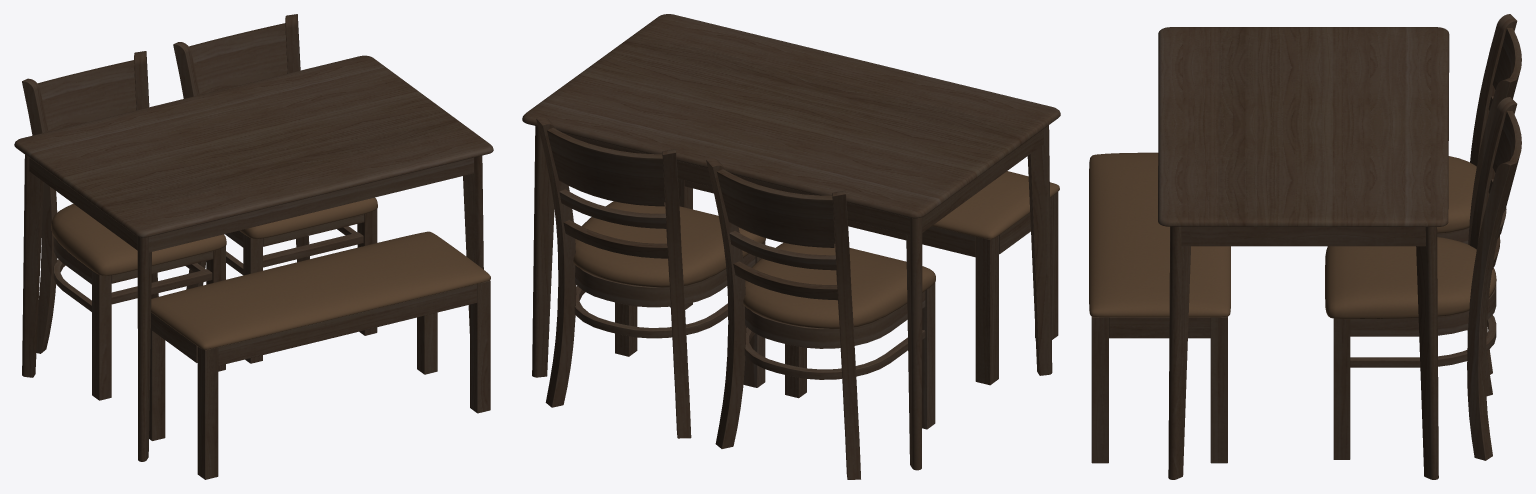
File: MEGA_PACK_Tableset__tableset_456939_Frame_Walnutbrown.glb
The picture shows the model from 3 angles, left to right: view 1: azimuth 30°, elevation 25°; view 2: azimuth 150°, elevation 25°; view 3: azimuth 270°, elevation 25°; orthographic projection. The views are drawn at different scales.
Visible parts, largest first — view 1: tableset_456939_Frame_Walnutbrown; view 2: tableset_456939_Frame_Walnutbrown; view 3: tableset_456939_Frame_Walnutbrown.
Boxes of the visible parts, <box> form: tableset_456939_Frame_Walnutbrown: <box>14,14,493,479</box>; tableset_456939_Frame_Walnutbrown: <box>522,14,1060,479</box>; tableset_456939_Frame_Walnutbrown: <box>1089,14,1521,479</box>.
Bounding box in the file's own units: 1.19 × 0.8344 × 1.11.
1 material, 1 textured.
